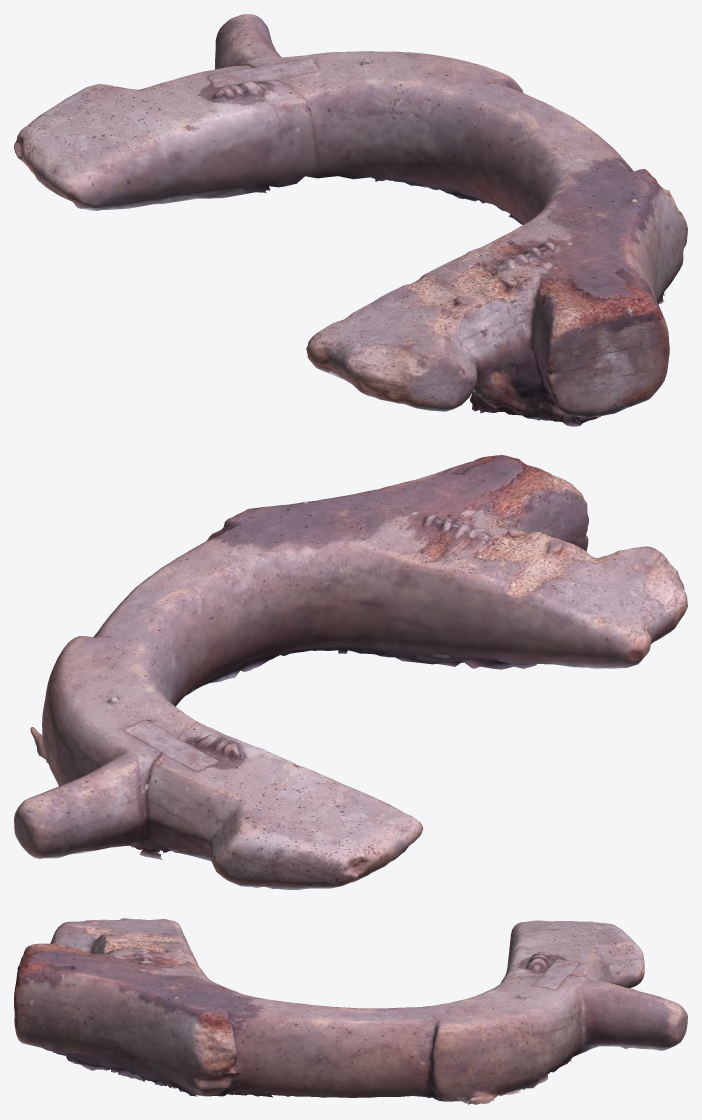
Rendered from YugoSimpleLow.glb.
3 views of the same model, one above another, from view 1: azimuth 30°, elevation 25°; view 2: azimuth 150°, elevation 25°; view 3: azimuth 270°, elevation 25° (orthographic). The views are drawn at different scales.
Visible parts, largest first — view 1: Yugo2; view 2: Yugo2; view 3: Yugo2.
Part boxes in pixels (left/top/right/bottom): Yugo2: left=14, top=14, right=687, bottom=426; Yugo2: left=14, top=455, right=687, bottom=889; Yugo2: left=14, top=918, right=687, bottom=1104.
Size of the model in its own units: 0.3561 by 0.112 by 0.6522.
Materials: 1 (1 with a texture image).
